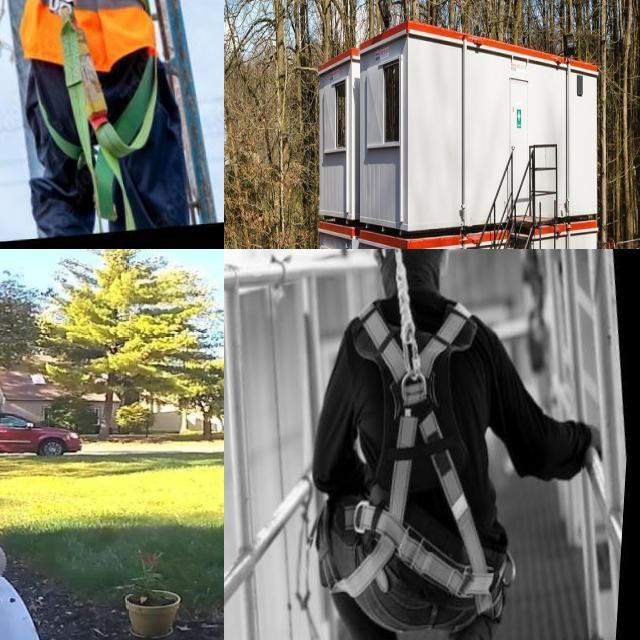Harness: (335, 303, 494, 614), (41, 0, 159, 231)
